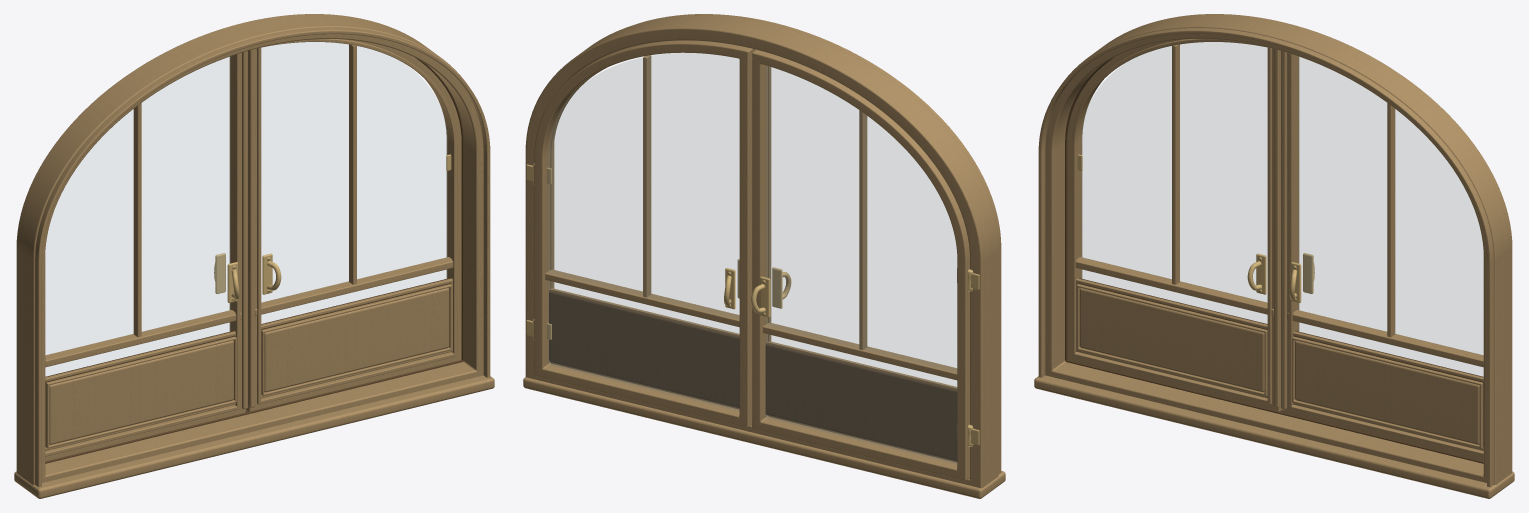
The model's file is front-room-04.glb.
3 views of the same model, side by side, from view 1: azimuth 30°, elevation 25°; view 2: azimuth 150°, elevation 25°; view 3: azimuth 330°, elevation 25° (orthographic).
Parts seen in each view (by area): view 1: frame__Joinery_honey_oak, hinge_right__Joinery_clear_glass, hinge_left__Joinery_clear_glass, hinge_right__Joinery_honey_oak, hinge_left__Joinery_honey_oak, frame__Joinery_recessed_walnut, hinge_right__Joinery_brass_fittings, hinge_left__Joinery_brass_fittings, hinge_left__Joinery_recessed_walnut; view 2: hinge_right__Joinery_clear_glass, hinge_left__Joinery_clear_glass, frame__Joinery_honey_oak, hinge_left__Joinery_honey_oak, hinge_right__Joinery_honey_oak, hinge_left__Joinery_recessed_walnut, hinge_right__Joinery_recessed_walnut, hinge_right__Joinery_brass_fittings, hinge_left__Joinery_brass_fittings, frame__Joinery_brass_fittings; view 3: frame__Joinery_honey_oak, hinge_left__Joinery_clear_glass, hinge_right__Joinery_clear_glass, hinge_left__Joinery_honey_oak, hinge_right__Joinery_honey_oak, frame__Joinery_recessed_walnut, hinge_left__Joinery_brass_fittings, hinge_right__Joinery_brass_fittings, hinge_right__Joinery_recessed_walnut.
Boxes of the visible parts, box(x1,y1,x2,y2) form: frame__Joinery_honey_oak: box(14, 14, 494, 498); hinge_right__Joinery_clear_glass: box(261, 42, 447, 323); hinge_left__Joinery_clear_glass: box(45, 57, 230, 375); hinge_right__Joinery_honey_oak: box(242, 39, 461, 411); hinge_left__Joinery_honey_oak: box(45, 49, 254, 461); frame__Joinery_recessed_walnut: box(45, 58, 463, 463); hinge_right__Joinery_brass_fittings: box(214, 154, 451, 302); hinge_left__Joinery_brass_fittings: box(262, 253, 281, 294); hinge_left__Joinery_recessed_walnut: box(45, 331, 234, 447); hinge_right__Joinery_clear_glass: box(548, 53, 739, 410); hinge_left__Joinery_clear_glass: box(766, 66, 956, 464); frame__Joinery_honey_oak: box(523, 14, 1005, 498); hinge_left__Joinery_honey_oak: box(751, 50, 969, 480); hinge_right__Joinery_honey_oak: box(534, 40, 755, 427); hinge_left__Joinery_recessed_walnut: box(765, 342, 957, 461); hinge_right__Joinery_recessed_walnut: box(549, 290, 739, 408); hinge_right__Joinery_brass_fittings: box(533, 163, 791, 339); hinge_left__Joinery_brass_fittings: box(724, 259, 973, 446); frame__Joinery_brass_fittings: box(526, 164, 979, 445); frame__Joinery_honey_oak: box(1034, 14, 1514, 498); hinge_left__Joinery_clear_glass: box(1081, 42, 1267, 323); hinge_right__Joinery_clear_glass: box(1298, 57, 1483, 375); hinge_left__Joinery_honey_oak: box(1067, 39, 1286, 411); hinge_right__Joinery_honey_oak: box(1274, 49, 1483, 461); frame__Joinery_recessed_walnut: box(1065, 58, 1483, 463); hinge_left__Joinery_brass_fittings: box(1077, 154, 1314, 302); hinge_right__Joinery_brass_fittings: box(1247, 253, 1266, 294); hinge_right__Joinery_recessed_walnut: box(1294, 331, 1483, 447).
Size of the model in its own units: 3.18 by 2.69 by 0.4599.
5 materials, 2 textured.
